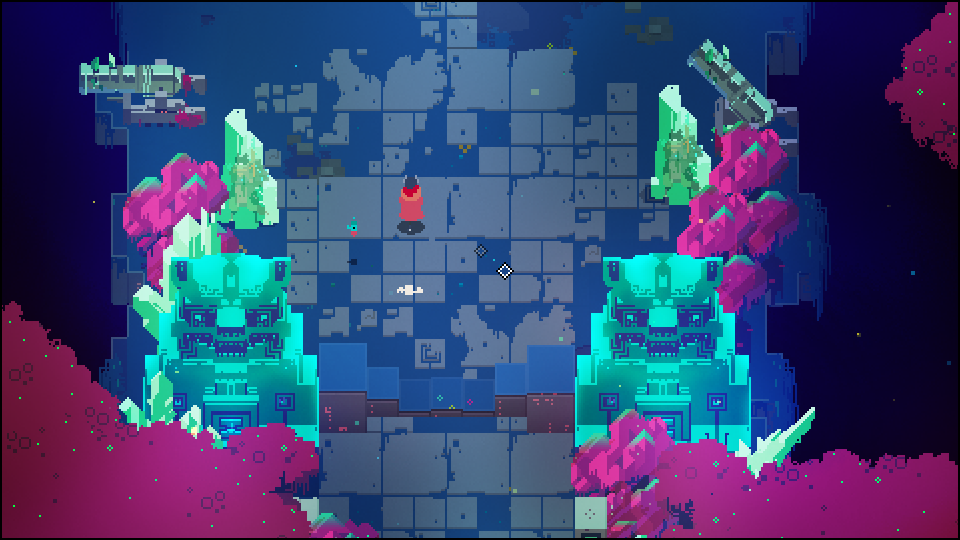player: (398, 174, 428, 231)
